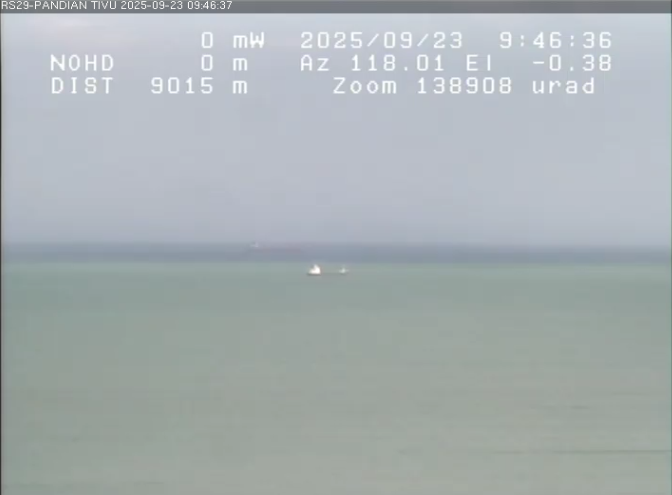CARGO_SHIPS: (298, 264, 366, 283)
